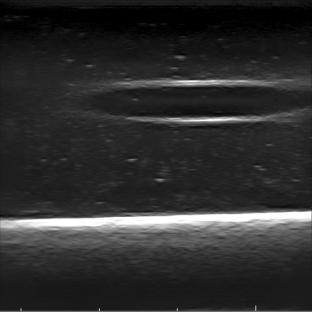vessel: (84, 77, 308, 125)
